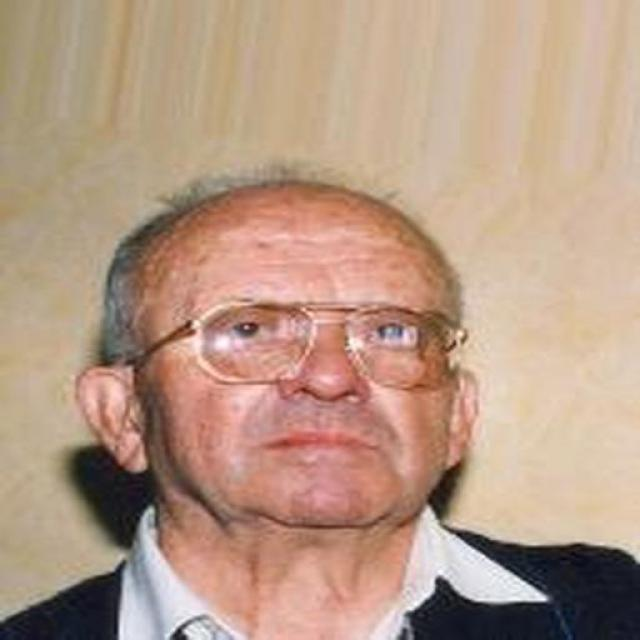bareface: (170, 226, 473, 516)
